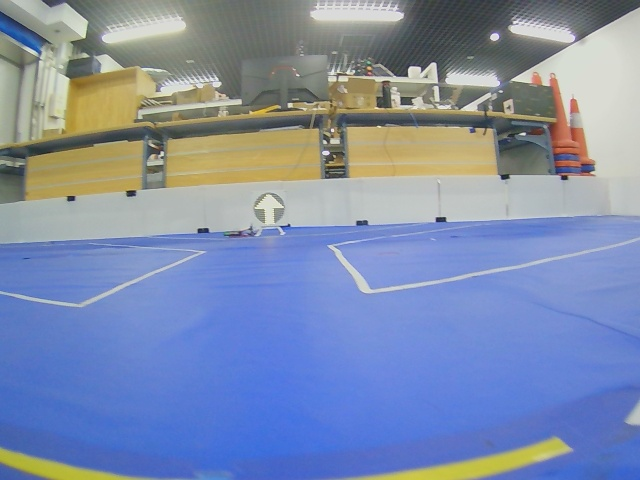straight_yellow: (254, 193, 285, 225)
